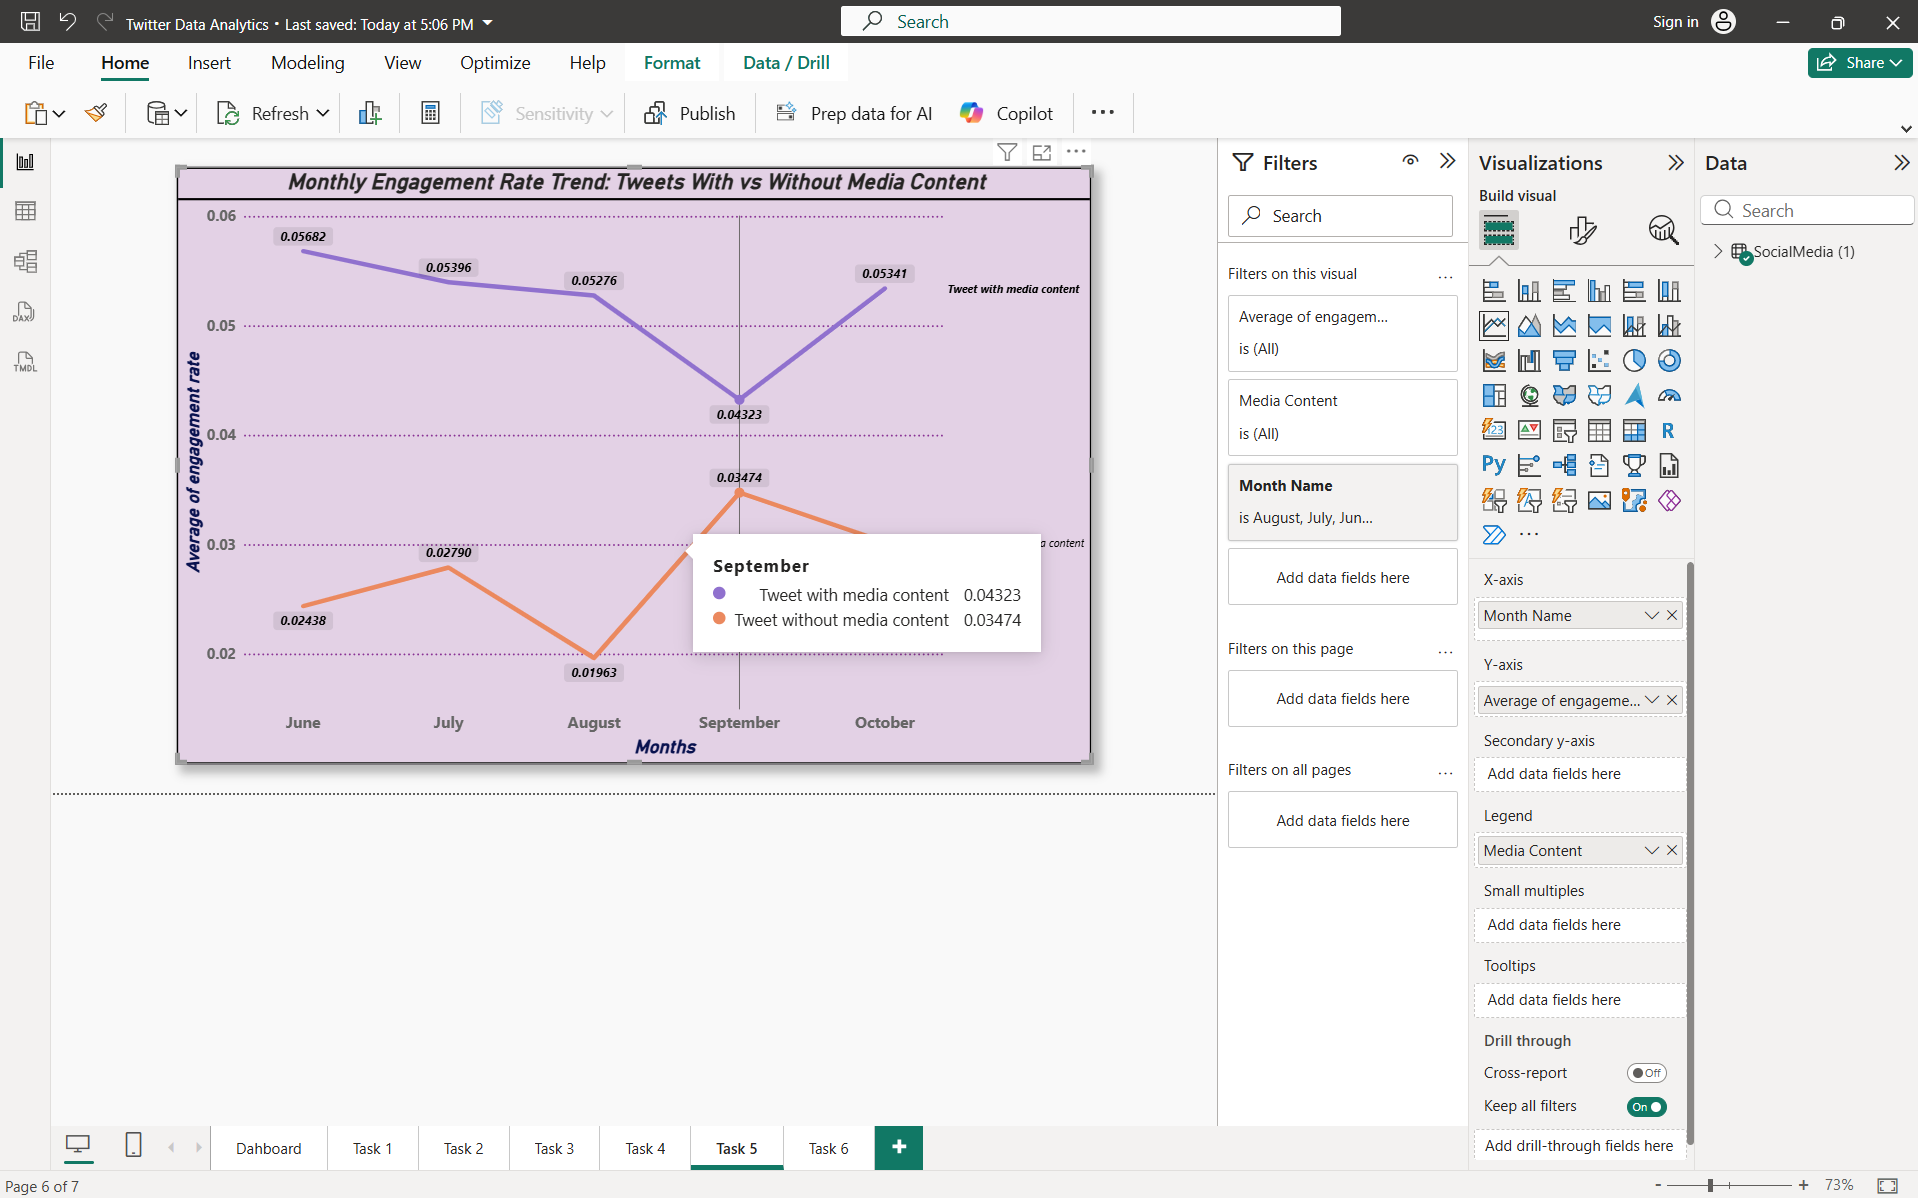

The page's visual inventory and layout, read from the dashboard file:
{"tool":"powerbi","page":{"name":"Task 5","canvas":[1280,720],"ordinal":5},"visuals":[{"type":"lineChart","title":"Monthly Engagement Rate Trend: Tweets With vs Without Media Content","fields":{"Y":["Avg(SocialMedia (1).engagement rate)"],"Category":["SocialMedia (1).Month Name"],"Series":["SocialMedia (1).Media Content"]},"box":[137.2,31.6,1005.8,655.9],"z":0}]}

Visuals, with their boxes on the page's 1280x720 design canvas (x1, y1, x2, y2). These are canvas units, not pixel positions in the 1918x1198 screenshot, which may show the page scaled, cropped or inside an application window:
"Monthly Engagement Rate Trend: Tweets With vs Without Media Content" lineChart: 137,32,1143,688
